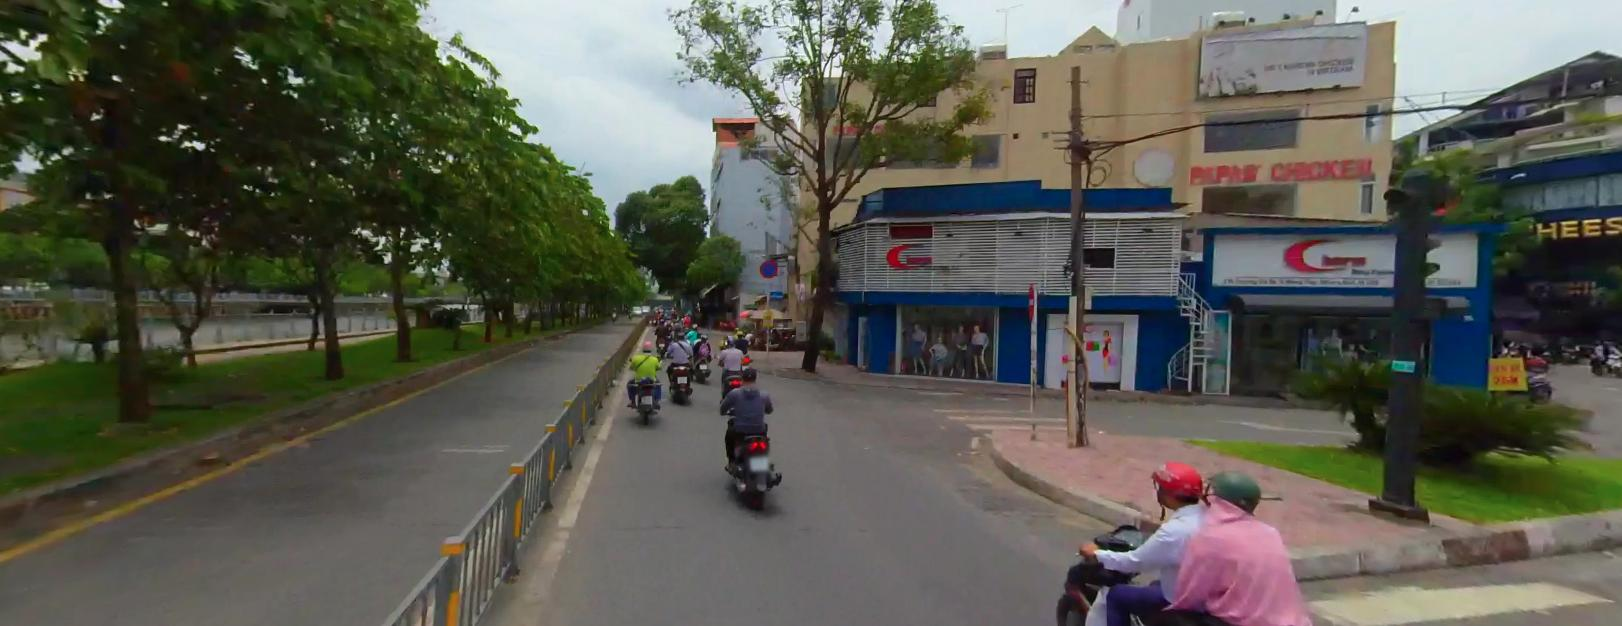Cam dung va do: (758, 259, 777, 277)
Cam nguoc chieu: (1027, 284, 1035, 318)
